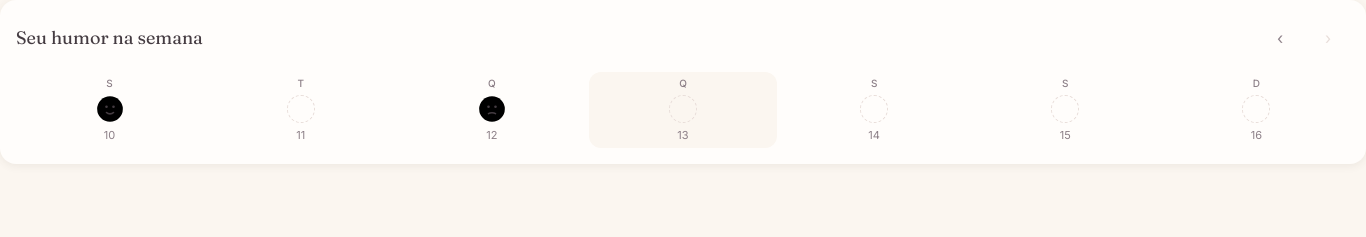
Scenario: HumorSemana › expande um resumo do dia ao tocar em um dia com registro
What coordinates should you click on to do the following:
click the button named "Segunda-feira, 10 de agosto, humor: Alto"
I would click on:
 (110, 110)
Its box is [16,72,203,148].
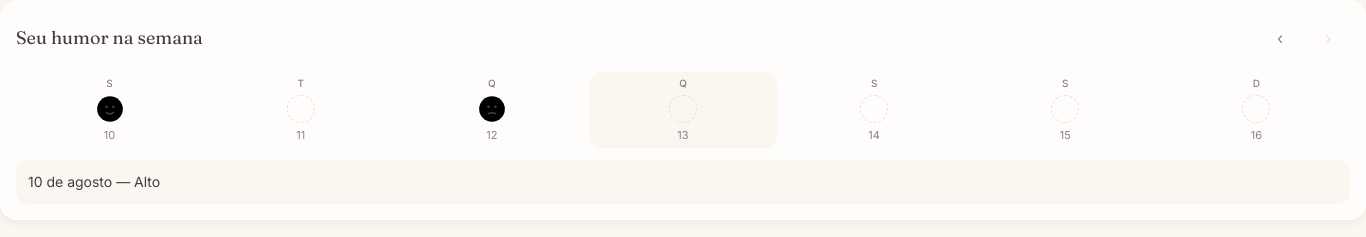
expect the text "10 de agosto — Alto" is shown: met, box [16,160,1350,204]
